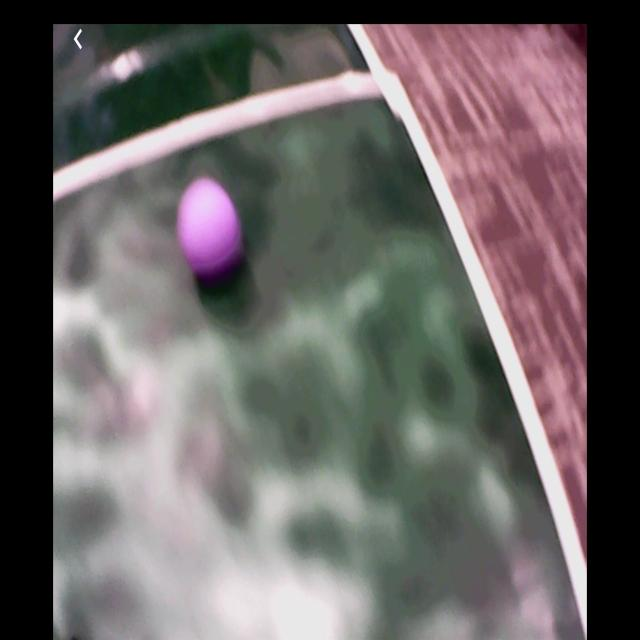ball: (177, 180, 242, 277)
